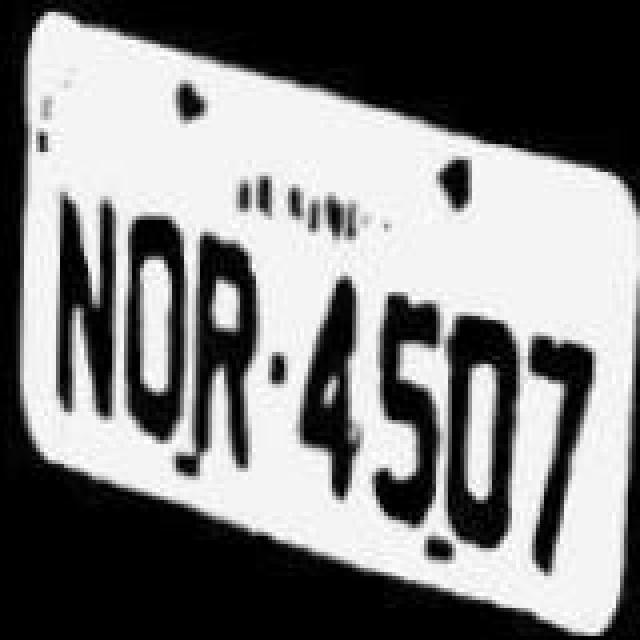4: (286, 260, 374, 504)
5: (362, 266, 450, 534)
7: (516, 296, 600, 576)
N: (32, 170, 120, 454)
O: (432, 286, 528, 554), (110, 206, 194, 446)
R: (182, 218, 274, 466)
